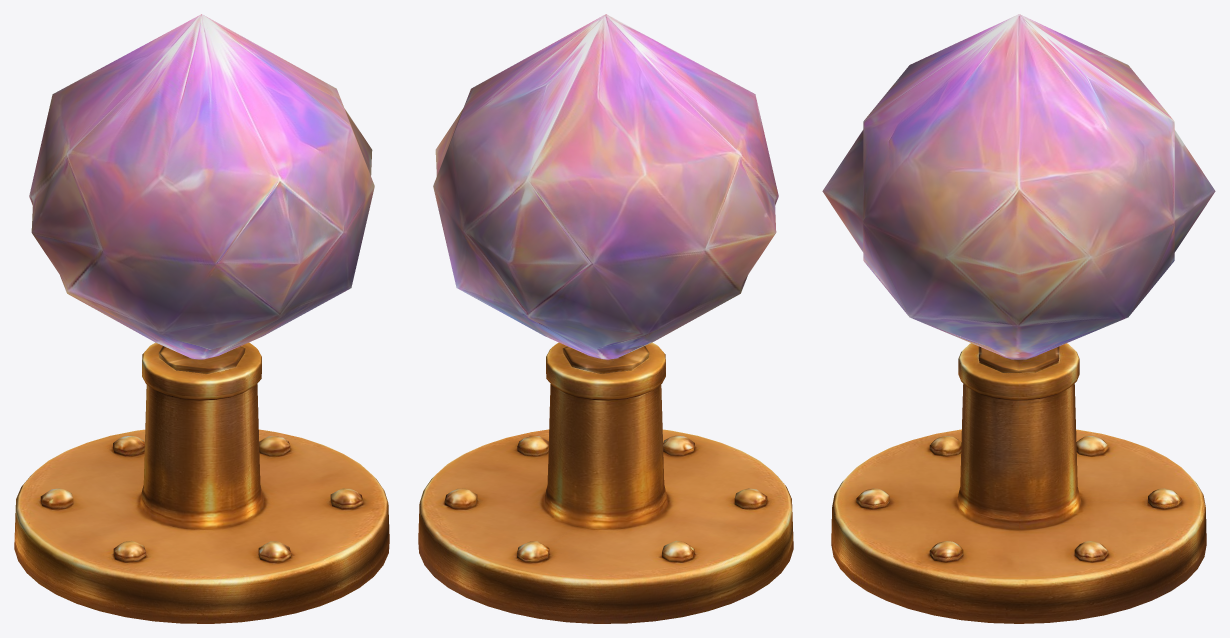
Rendered from crystal.glb.
3 views of the same model, side by side, from view 1: azimuth 30°, elevation 25°; view 2: azimuth 150°, elevation 25°; view 3: azimuth 270°, elevation 25° (orthographic).
Visible parts, largest first — view 1: Gem, Base; view 2: Gem, Base; view 3: Gem, Base.
Boxes of the visible parts, <box> form: Gem: <box>29,14,374,359</box>; Base: <box>14,342,389,623</box>; Gem: <box>433,14,778,359</box>; Base: <box>418,342,793,623</box>; Gem: <box>822,14,1215,359</box>; Base: <box>831,343,1206,623</box>.
Size of the model in its own units: 0.6717 by 1 by 0.6717.
Materials: 2 (2 with a texture image).
